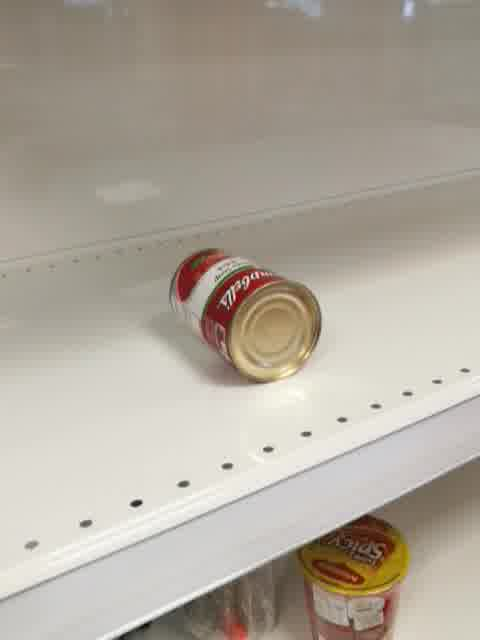tomatosoup: (168, 246, 325, 386)
